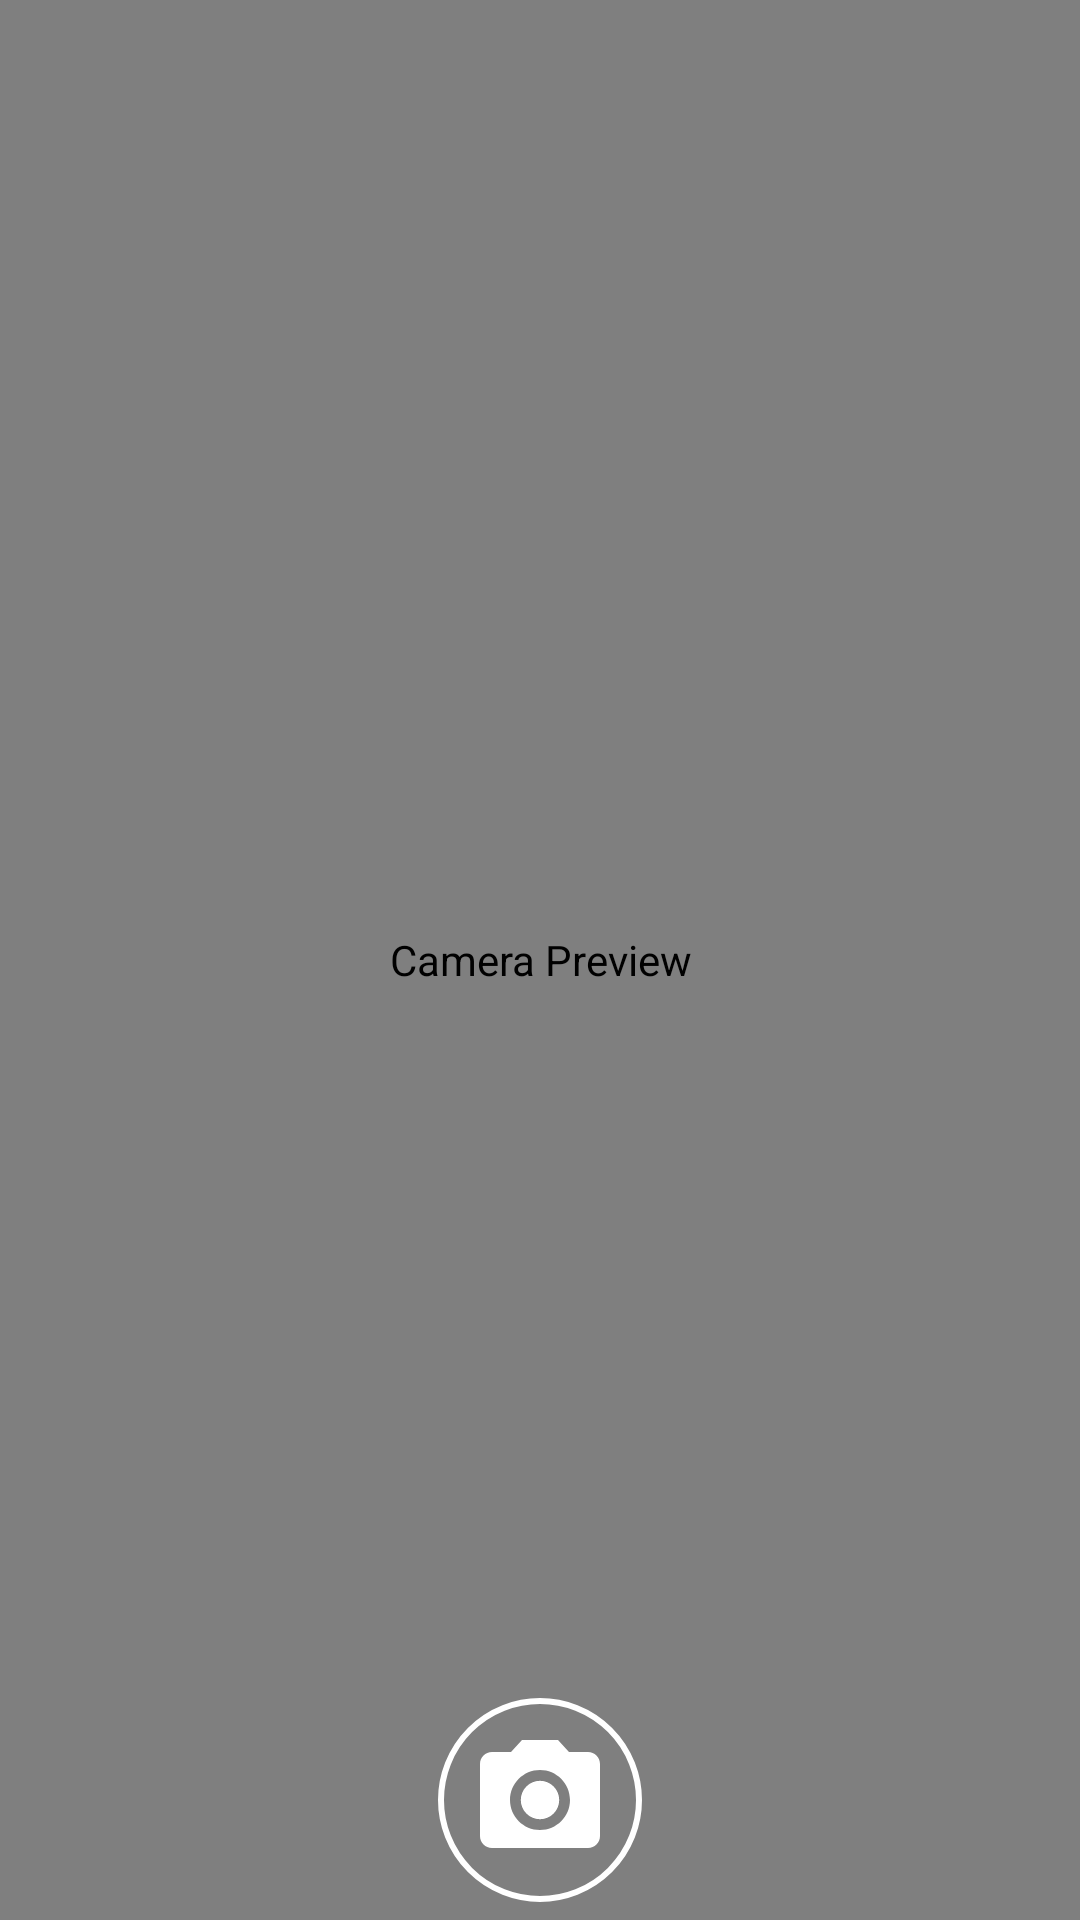

Icon click points for this 1080 x 1920 phone screenshot, format (x,y):
Photo and Video Capture Button: (540,1800)
